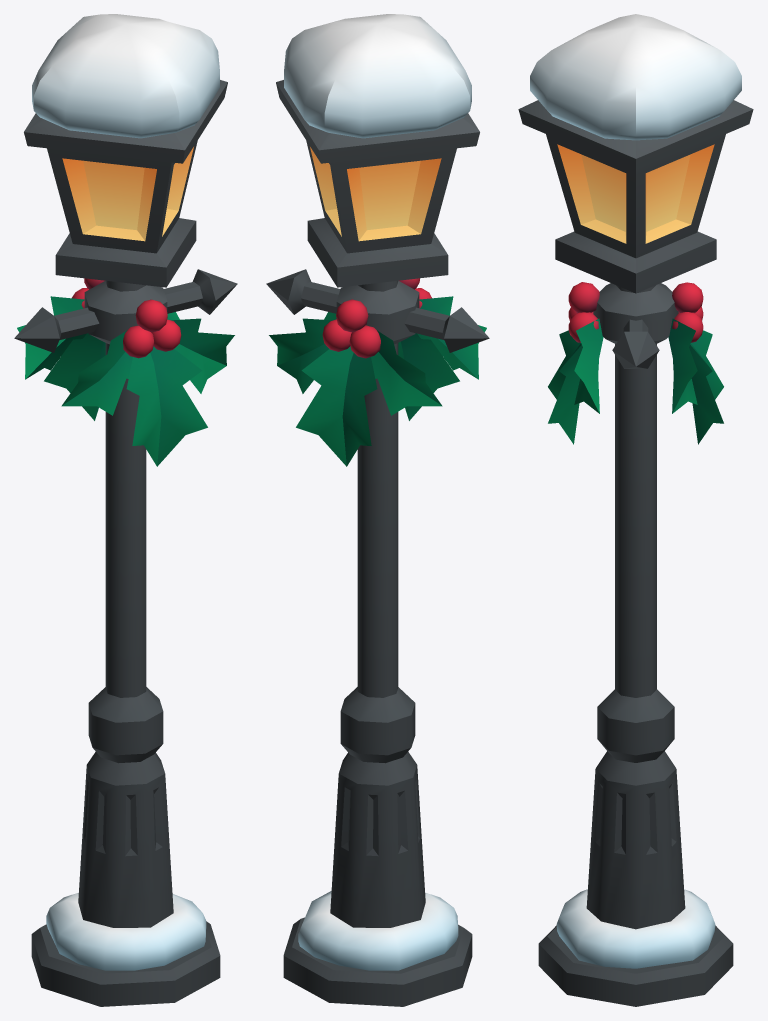
Rendered from lantern_decorated.glb.
3 views of the same model, side by side, from view 1: azimuth 30°, elevation 25°; view 2: azimuth 150°, elevation 25°; view 3: azimuth 270°, elevation 25° (orthographic).
Visible parts, largest first — view 1: lantern_decorated; view 2: lantern_decorated; view 3: lantern_decorated.
Boxes of the visible parts, x1,y1,x2,y2 form: lantern_decorated: (14, 14, 237, 1006); lantern_decorated: (266, 14, 489, 1006); lantern_decorated: (518, 14, 753, 1006).
Bounding box in the file's own units: 0.9912 × 3.99 × 0.9051.
Materials: 2 (2 with a texture image).
